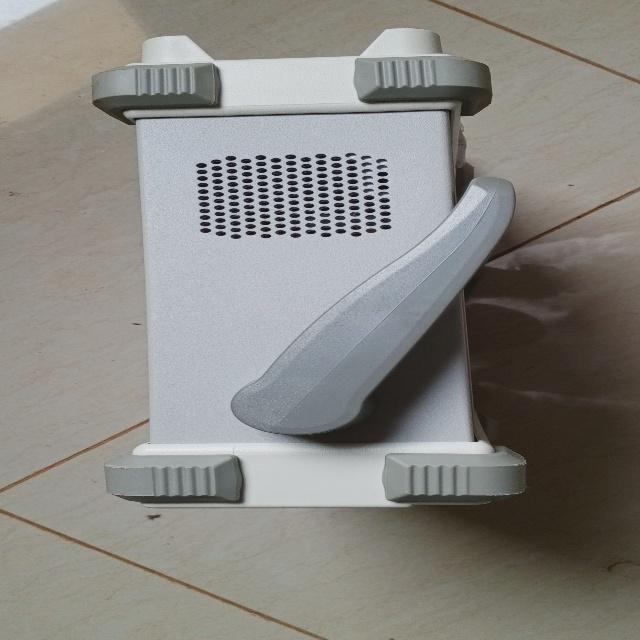Function Arbitrary Wave Form Generator 25Mhz: (34, 23, 570, 514)
